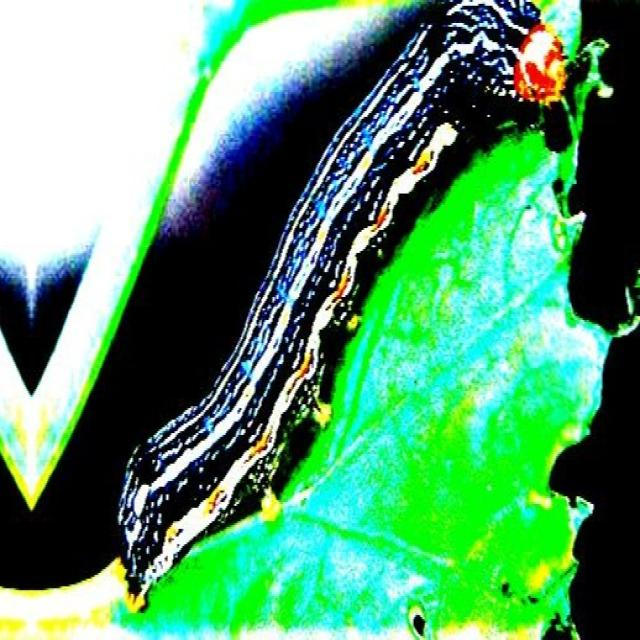Armyworm: (102, 1, 634, 584)
